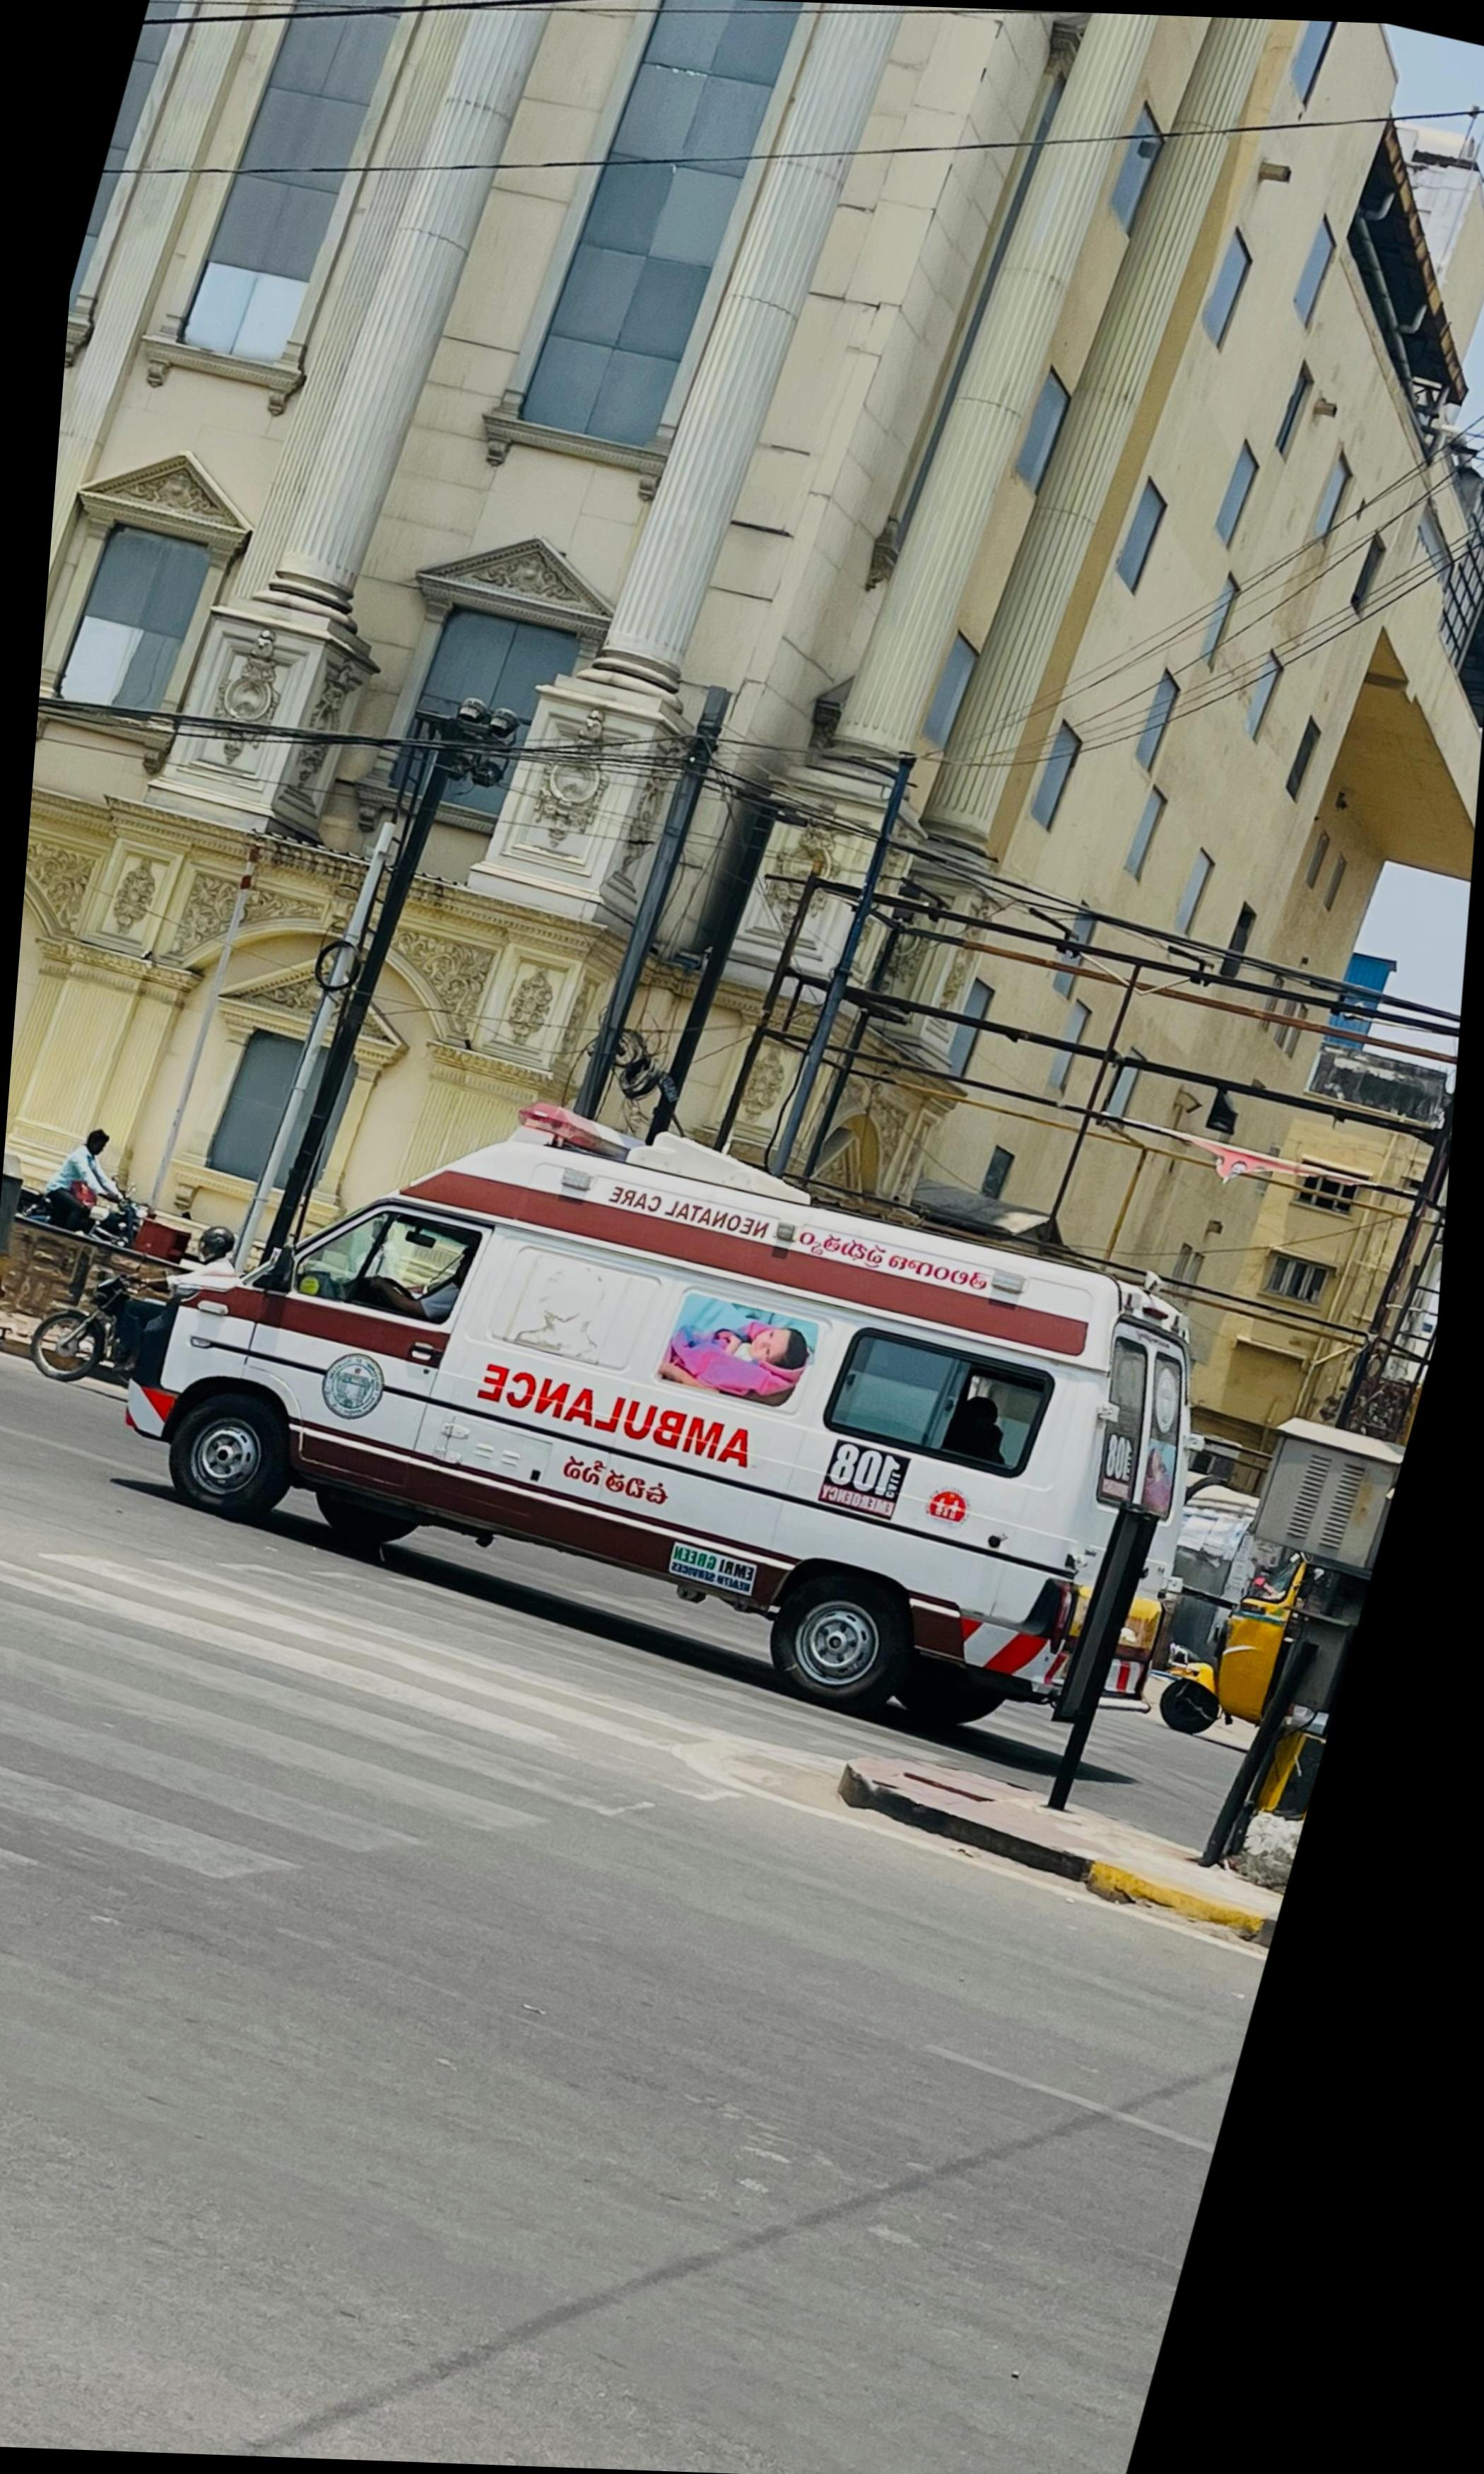ambulance: (118, 1097, 1185, 1716)
